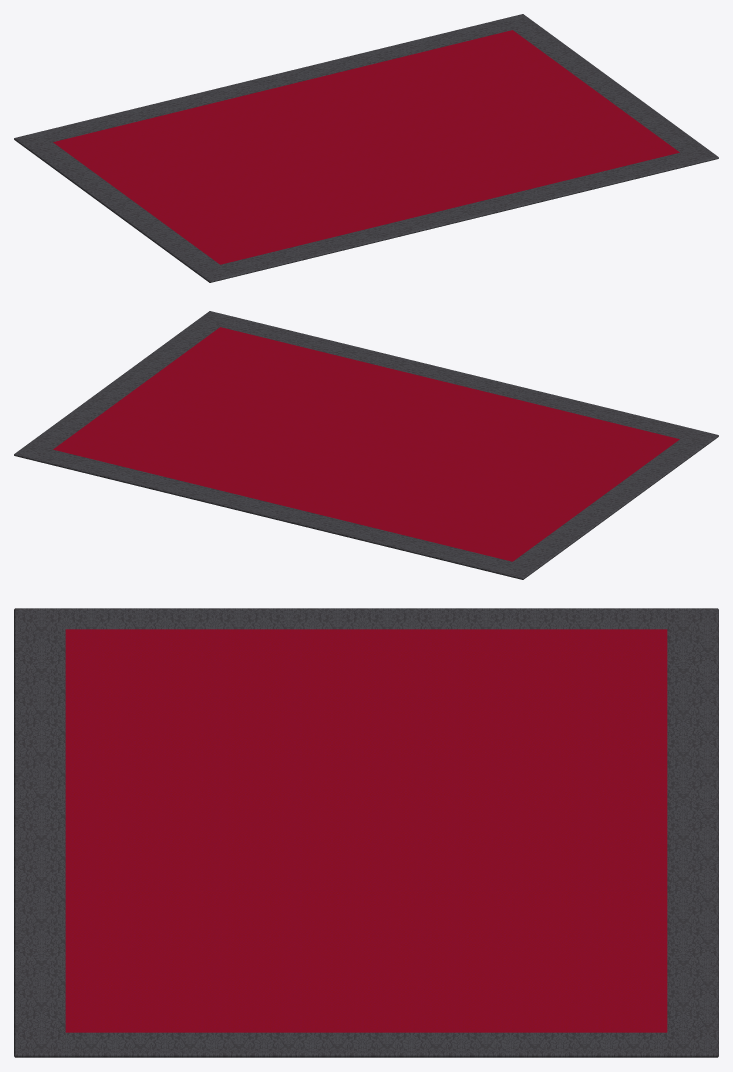
Rendered from rug.glb.
3 views of the same model, one above another, from view 1: azimuth 30°, elevation 25°; view 2: azimuth 150°, elevation 25°; view 3: azimuth 270°, elevation 25° (orthographic). The views are drawn at different scales.
Visible parts, largest first — view 1: rug; view 2: rug; view 3: rug.
Boxes of the visible parts, <box> form: rug: <box>14,14,718,282</box>; rug: <box>14,311,718,579</box>; rug: <box>14,608,718,1057</box>.
Bounding box in the file's own units: 3 × 0.012 × 2.
2 materials, 2 textured.
